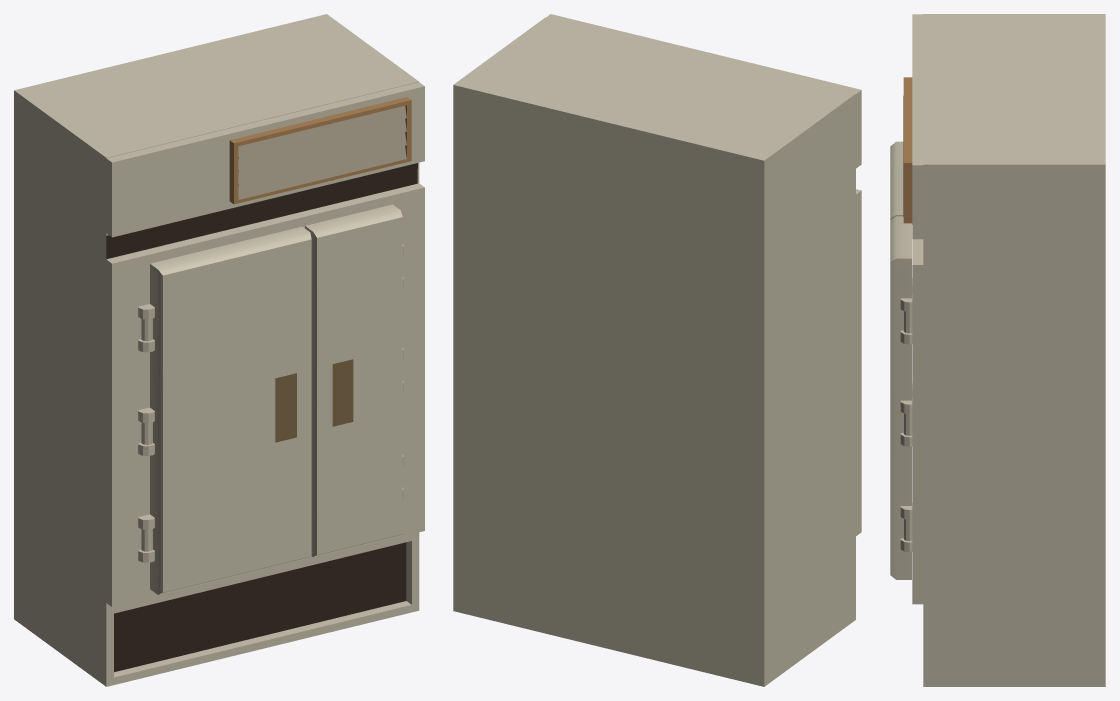
Rendered from fridge.fbx.
3 views of the same model, side by side, from view 1: azimuth 30°, elevation 25°; view 2: azimuth 150°, elevation 25°; view 3: azimuth 270°, elevation 25° (orthographic).
Parts seen in each view (by area): view 1: pCube41; view 2: pCube41; view 3: pCube41.
Boxes of the visible parts, <box> form: pCube41: <box>14,14,424,686</box>; pCube41: <box>453,14,861,686</box>; pCube41: <box>890,14,1105,686</box>.
Bounding box in the file's own units: 12.59 × 20.35 × 7.61.
